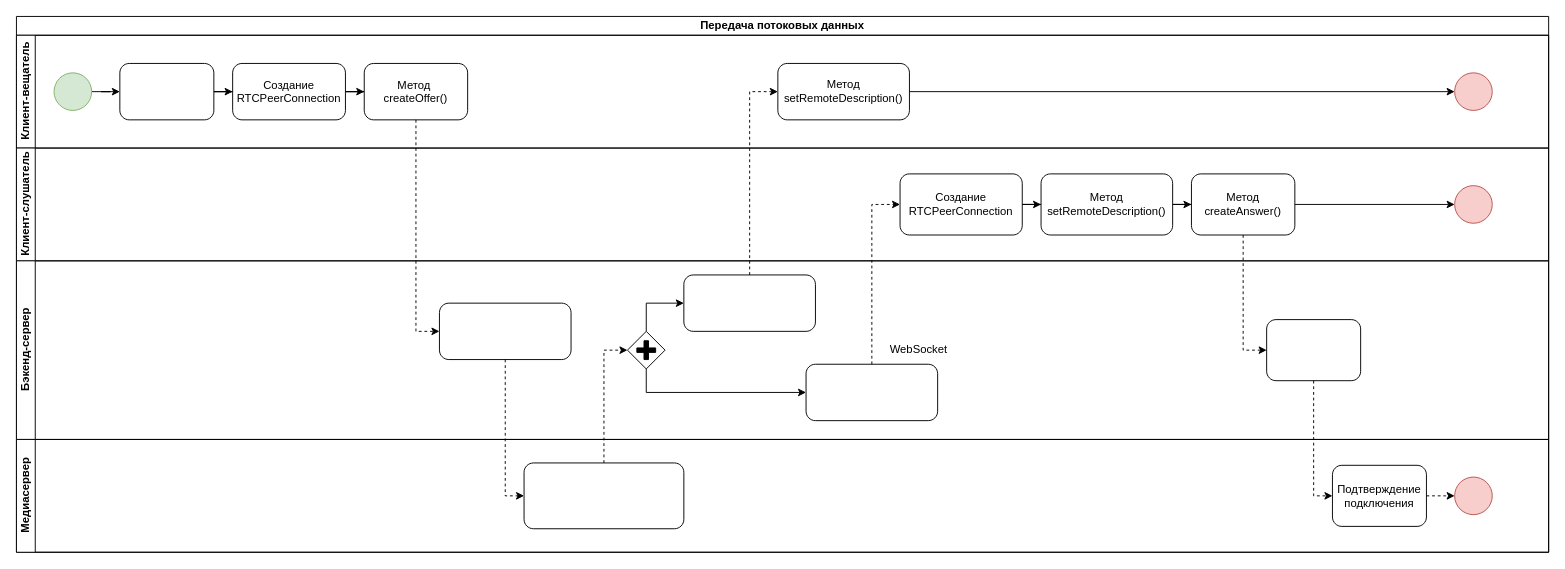
Image size: 1565x569. Some labels were removed from this diagram. Here are the shapes that lost their labels. From the top down, the centre of each, then its label:
point 166,91: Метод getUserMedia()
point 749,302: Отправка AnswerSDP вещателю
point 505,331: Запрос на Produce Отправка OfferSDP
point 1313,350: Отправка AnswerSDP
point 871,392: Отправка OfferSDP слушателям
point 603,495: Создание ProducerTransport, Producer, а также всех необходимых Consumers
